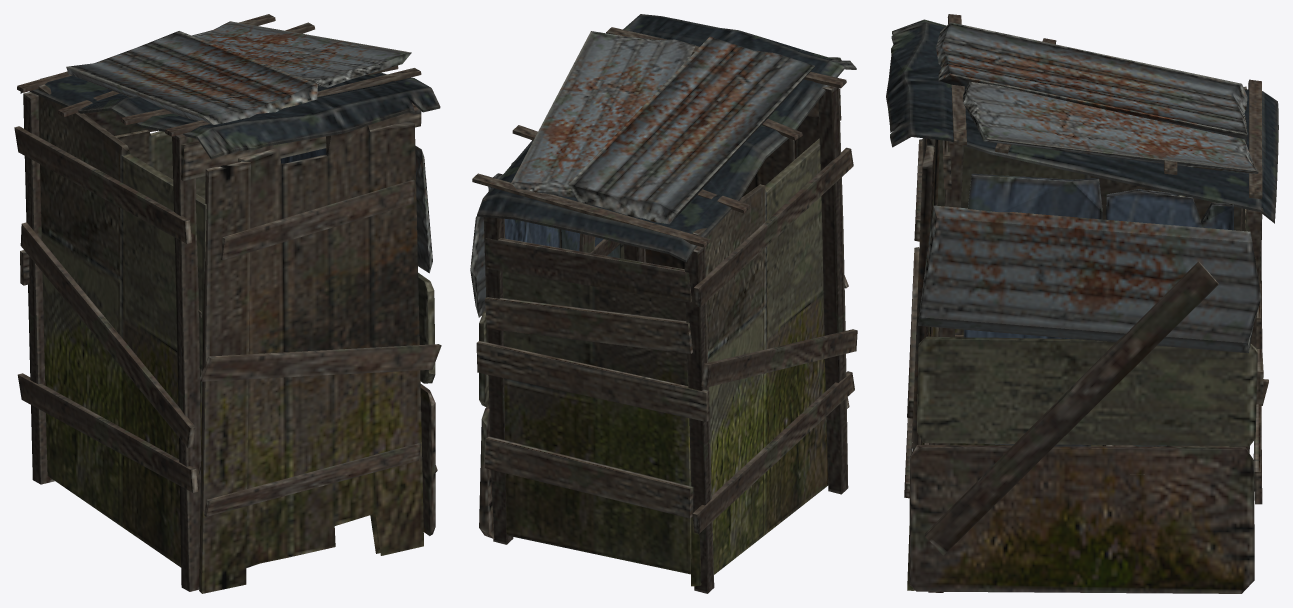
Rendered from ShantyToilet_parts.fbx.
3 renders of one model, left to right at view 1: azimuth 30°, elevation 25°; view 2: azimuth 150°, elevation 25°; view 3: azimuth 270°, elevation 25°, orthographic. The views are drawn at different scales.
Parts seen in each view (by area): view 1: ENDCIV_ShantyToilet_03_1, ENDCIV_ShantyToilet_01_5, ENDCIV_ShantyToilet_02_1, ENDCIV_ShantyToilet_02_3, ENDCIV_ShantyToilet_01_17, ENDCIV_ShantyToilet_02_2, ENDCIV_ShantyToilet_03_4, ENDCIV_ShantyToilet_01_22, ENDCIV_ShantyToilet_01_4, ENDCIV_ShantyToilet_01_16, ENDCIV_ShantyToilet_03_3, ENDCIV_ShantyToilet_01_23 (+10 smaller); view 2: ENDCIV_ShantyToilet_01_5, ENDCIV_ShantyToilet_01_9, ENDCIV_ShantyToilet_02_1, ENDCIV_ShantyToilet_02_3, ENDCIV_ShantyToilet_02_2, ENDCIV_ShantyToilet_01_11, ENDCIV_ShantyToilet_01_17, ENDCIV_ShantyToilet_01_2, ENDCIV_ShantyToilet_01_18, ENDCIV_ShantyToilet_01_10, ENDCIV_ShantyToilet_01_16, ENDCIV_ShantyToilet_01_4 (+12 smaller); view 3: ENDCIV_ShantyToilet_01_1, ENDCIV_ShantyToilet_01_6, ENDCIV_ShantyToilet_01_13, ENDCIV_ShantyToilet_02_1, ENDCIV_ShantyToilet_02_3, ENDCIV_ShantyToilet_02_2, ENDCIV_ShantyToilet_01_20, ENDCIV_ShantyToilet_01_7, ENDCIV_ShantyToilet_01_5, ENDCIV_ShantyToilet_01_12, ENDCIV_ShantyToilet_03_1, ENDCIV_ShantyToilet_02_7 (+6 smaller).
Boxes of the visible parts, box(x1,y1,x2,y2) form: ENDCIV_ShantyToilet_03_1: box(199, 120, 423, 593); ENDCIV_ShantyToilet_01_5: box(38, 84, 206, 567); ENDCIV_ShantyToilet_02_1: box(66, 31, 317, 124); ENDCIV_ShantyToilet_02_3: box(20, 72, 440, 159); ENDCIV_ShantyToilet_01_17: box(172, 134, 201, 591); ENDCIV_ShantyToilet_02_2: box(192, 21, 411, 87); ENDCIV_ShantyToilet_03_4: box(199, 344, 441, 381); ENDCIV_ShantyToilet_01_22: box(20, 222, 195, 447); ENDCIV_ShantyToilet_01_4: box(17, 373, 198, 492); ENDCIV_ShantyToilet_01_16: box(23, 92, 54, 484); ENDCIV_ShantyToilet_03_3: box(220, 179, 415, 260); ENDCIV_ShantyToilet_01_23: box(14, 126, 191, 243); ENDCIV_ShantyToilet_01_5: box(691, 138, 828, 586); ENDCIV_ShantyToilet_01_9: box(502, 271, 691, 574); ENDCIV_ShantyToilet_02_1: box(568, 36, 814, 224); ENDCIV_ShantyToilet_02_3: box(477, 14, 856, 262); ENDCIV_ShantyToilet_02_2: box(511, 31, 695, 197); ENDCIV_ShantyToilet_01_11: box(476, 341, 709, 421); ENDCIV_ShantyToilet_01_17: box(818, 85, 848, 494); ENDCIV_ShantyToilet_01_2: box(484, 436, 693, 518); ENDCIV_ShantyToilet_01_18: box(485, 297, 692, 353); ENDCIV_ShantyToilet_01_10: box(485, 238, 691, 302); ENDCIV_ShantyToilet_01_16: box(684, 246, 714, 593); ENDCIV_ShantyToilet_01_4: box(692, 371, 854, 533); ENDCIV_ShantyToilet_01_1: box(909, 445, 1254, 593); ENDCIV_ShantyToilet_01_6: box(918, 205, 1261, 353); ENDCIV_ShantyToilet_01_13: box(917, 336, 1257, 446); ENDCIV_ShantyToilet_02_1: box(935, 22, 1247, 144); ENDCIV_ShantyToilet_02_3: box(886, 19, 1278, 223); ENDCIV_ShantyToilet_02_2: box(963, 81, 1258, 174); ENDCIV_ShantyToilet_01_20: box(925, 261, 1218, 555); ENDCIV_ShantyToilet_01_7: box(963, 173, 1102, 446); ENDCIV_ShantyToilet_01_5: box(932, 86, 1246, 447); ENDCIV_ShantyToilet_01_12: box(1106, 189, 1233, 446); ENDCIV_ShantyToilet_03_1: box(907, 138, 939, 590); ENDCIV_ShantyToilet_02_7: box(1248, 79, 1262, 198).
Size of the model in its own units: 75.52 by 130 by 97.23.
